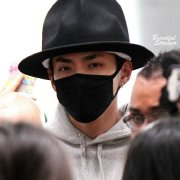face: (126, 77, 179, 162)
face_mask: (52, 34, 114, 120)
